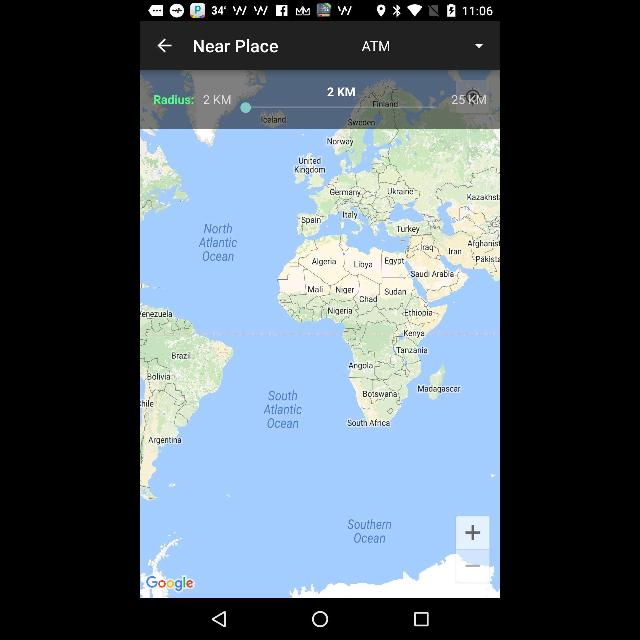icon: (152, 34, 178, 54), (211, 610, 227, 628), (412, 611, 430, 627), (312, 611, 328, 627), (472, 37, 486, 51)
map: (142, 70, 500, 598)
panel: (140, 598, 500, 638)
text: (192, 36, 280, 56), (358, 37, 394, 54)
toolbar: (141, 24, 499, 70)
uppertaskbar: (140, 0, 500, 22)
